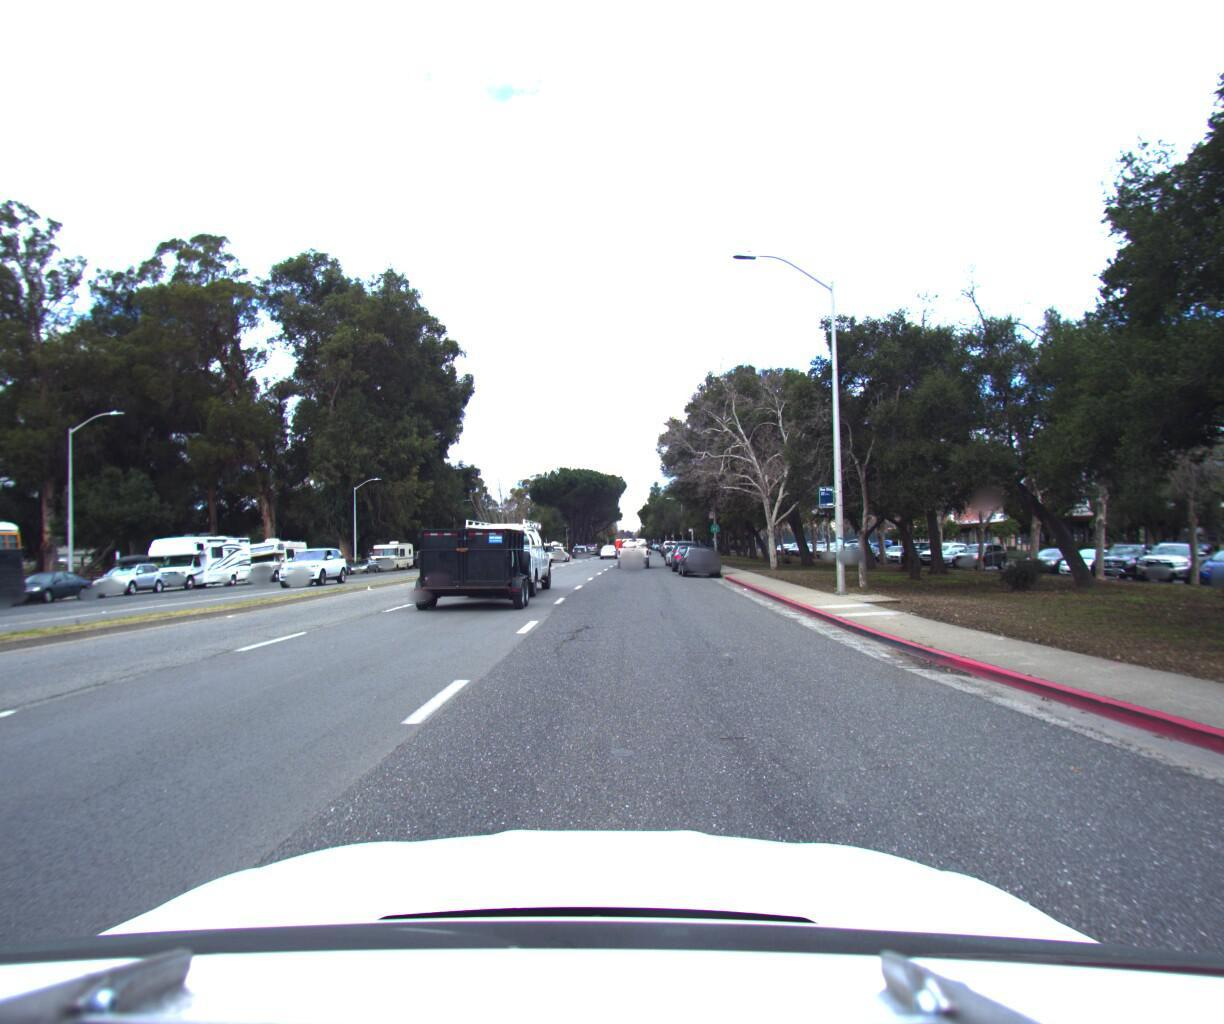car: (407, 502, 560, 612), (82, 547, 177, 591), (276, 539, 352, 581), (673, 535, 723, 570), (611, 527, 648, 563), (669, 536, 702, 563), (343, 549, 381, 568), (547, 536, 571, 554), (597, 535, 619, 551)
other_vehicle: (137, 524, 260, 585), (236, 528, 315, 577), (369, 533, 418, 563)
